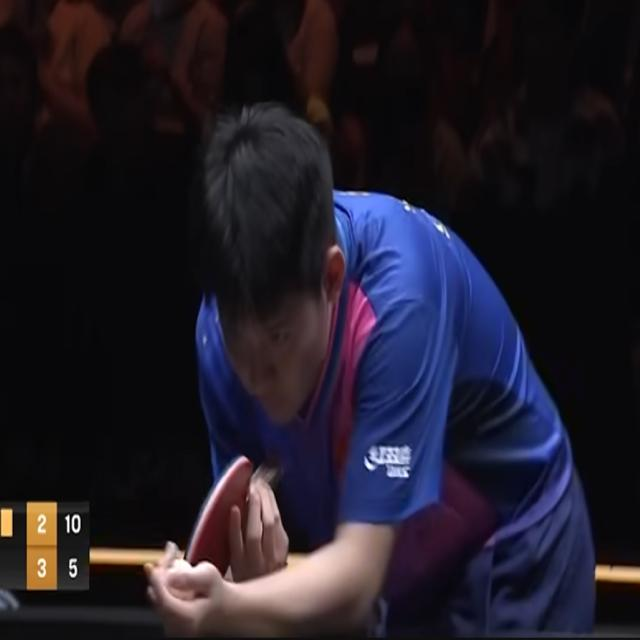TT Racket: (171, 437, 283, 593)
